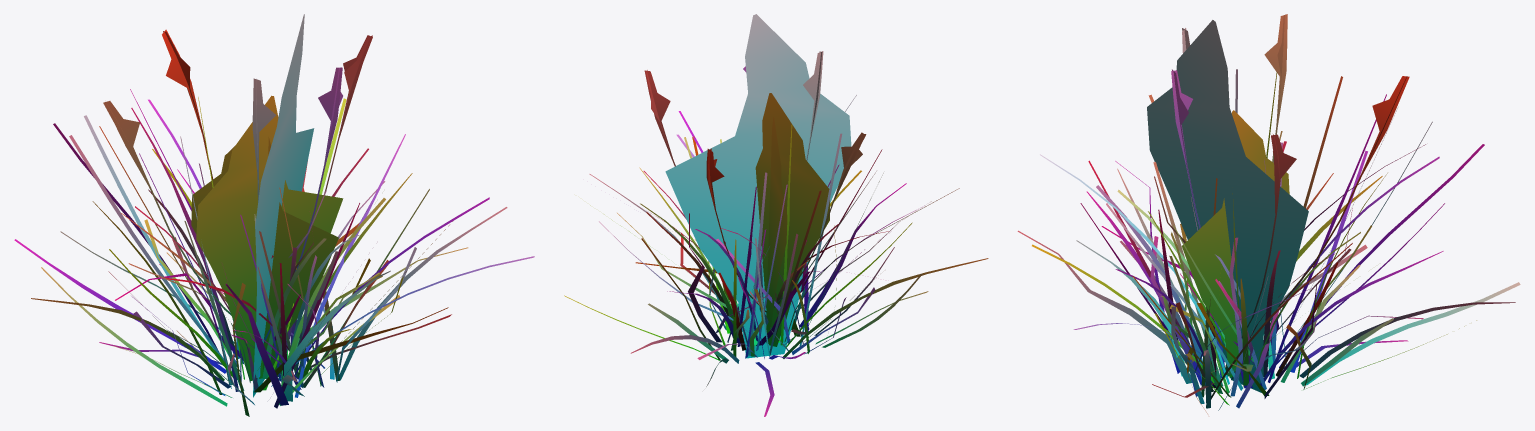
Rendered from Wild_Grass_vlkhcbxia_Low_vlkhcbxia_VarA_LOD0.fbx.
3 renders of one model, left to right at view 1: azimuth 30°, elevation 25°; view 2: azimuth 150°, elevation 25°; view 3: azimuth 270°, elevation 25°, orthographic. The views are drawn at different scales.
Visible parts, largest first — view 1: _b7m9_VarA_LOD2; view 2: _b7m9_VarA_LOD2; view 3: _b7m9_VarA_LOD2.
Boxes of the visible parts, left/top/right/bottom form: _b7m9_VarA_LOD2: left=14, top=14, right=534, bottom=416; _b7m9_VarA_LOD2: left=564, top=14, right=988, bottom=416; _b7m9_VarA_LOD2: left=1017, top=14, right=1520, bottom=413.
Size of the model in its own units: 53.09 by 40.95 by 49.03.
